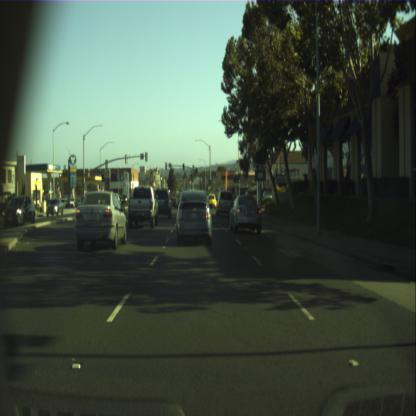Green: (238, 173, 240, 182), (195, 167, 197, 174), (210, 180, 211, 188)
Red: (165, 161, 167, 170)
off: (182, 162, 184, 171)
